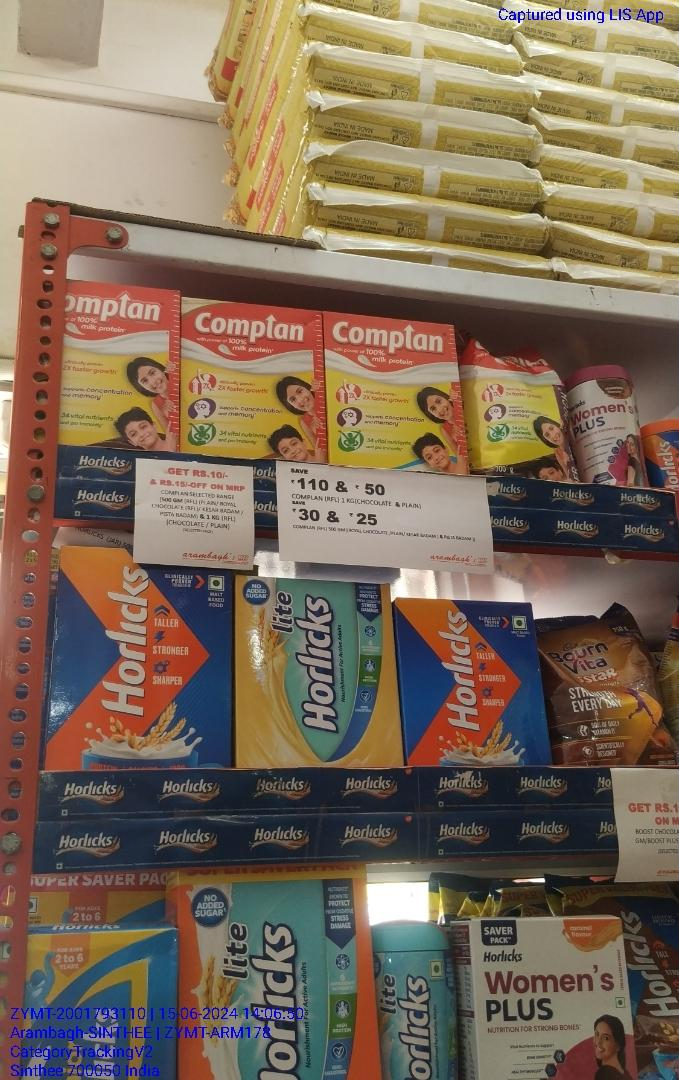BOURN_VITA_FIVE_STAR_MAGIC_750_G_POUCH: (547, 613, 662, 766)
COMPLAN_CREAMY_CLASSIC_500_G_PACK: (328, 312, 468, 473)
COMPLAN_RC_POUCH_700_GMS_12: (472, 347, 572, 480)
HORLICKS_LITE_REGULAR_MALT_500_GM_JAR: (381, 925, 458, 1080)
HORLICK_CLASSIC_MALT_500_G_PACK: (47, 567, 233, 767), (397, 602, 539, 761)
